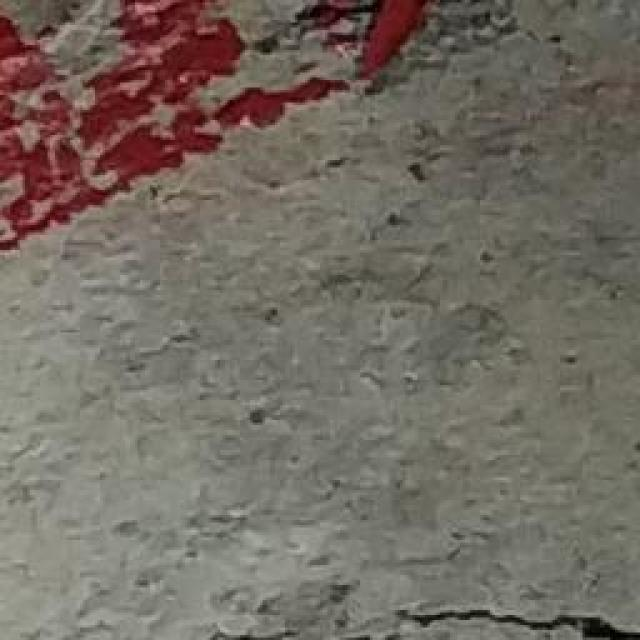Rippled: (0, 0, 423, 224)
Transverse: (377, 597, 640, 640)
